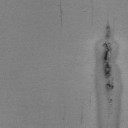slag inclusion: (101, 42, 114, 80), (105, 80, 114, 91), (105, 24, 110, 38), (108, 98, 112, 106)
